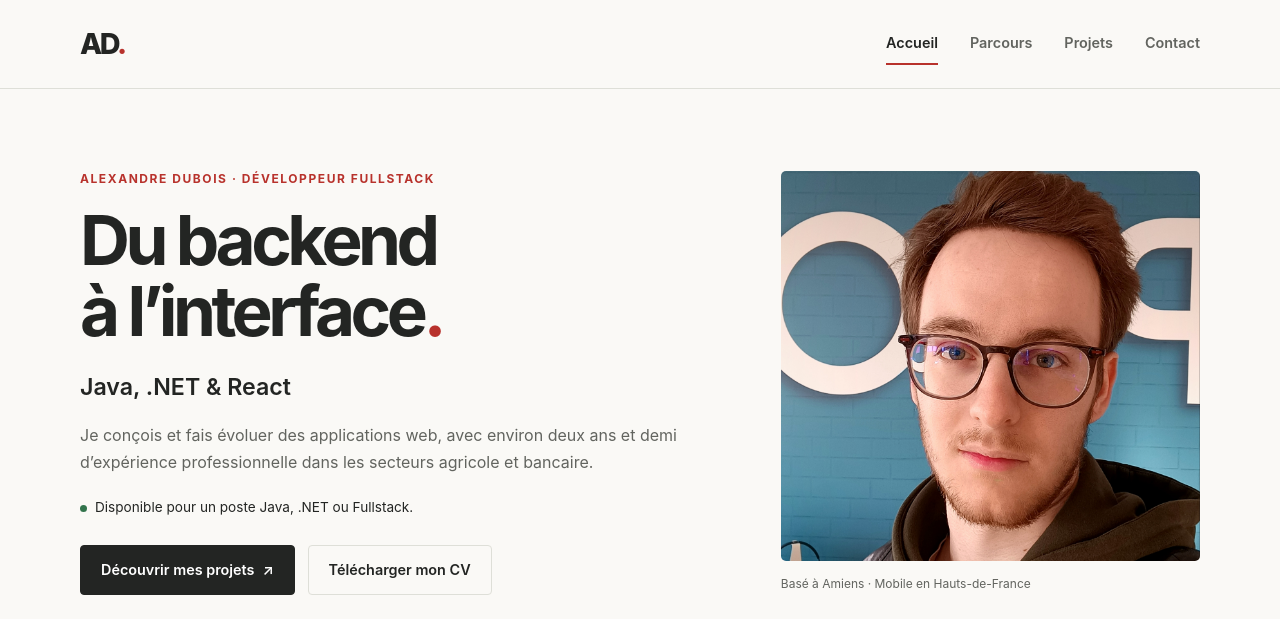
Test: keeps the message and allows a retry when EmailJS fails
Click the link "Contact" at {"x": 1172, "y": 43}, box [1145,34,1200,51]
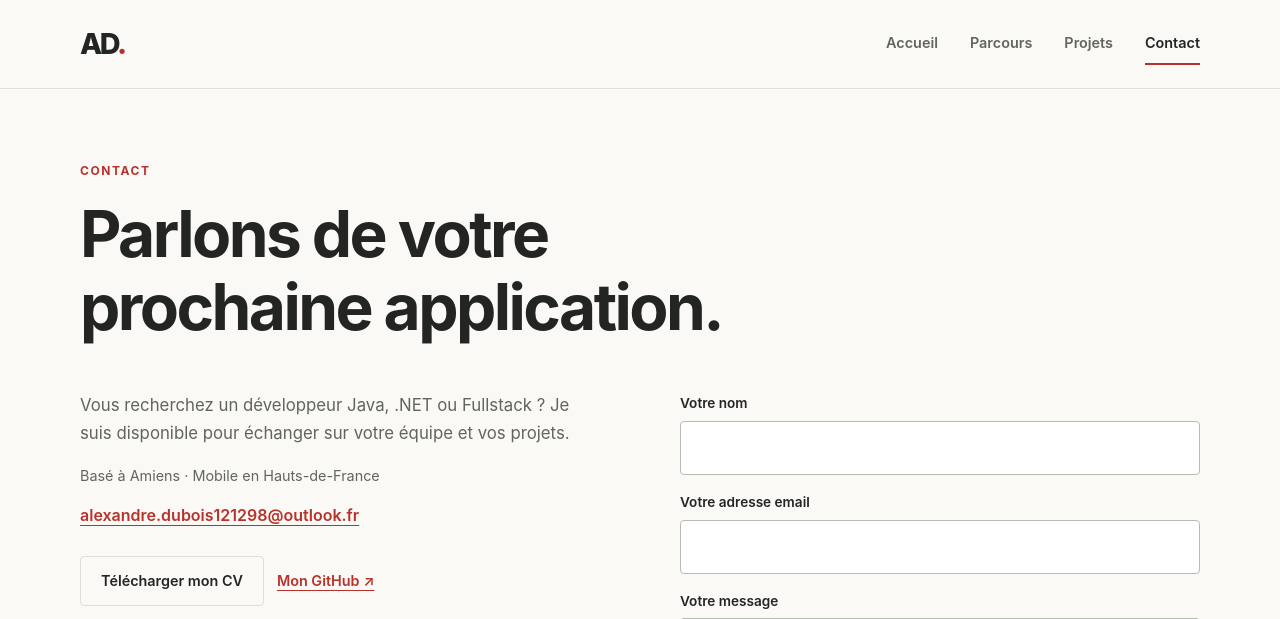
Now the heading "Parlons de votre" is shown, box [80,195,722,345]
Type "Visiteur" into the field labelled "Votre nom" at {"x": 940, "y": 448}, box [680,421,1200,475]
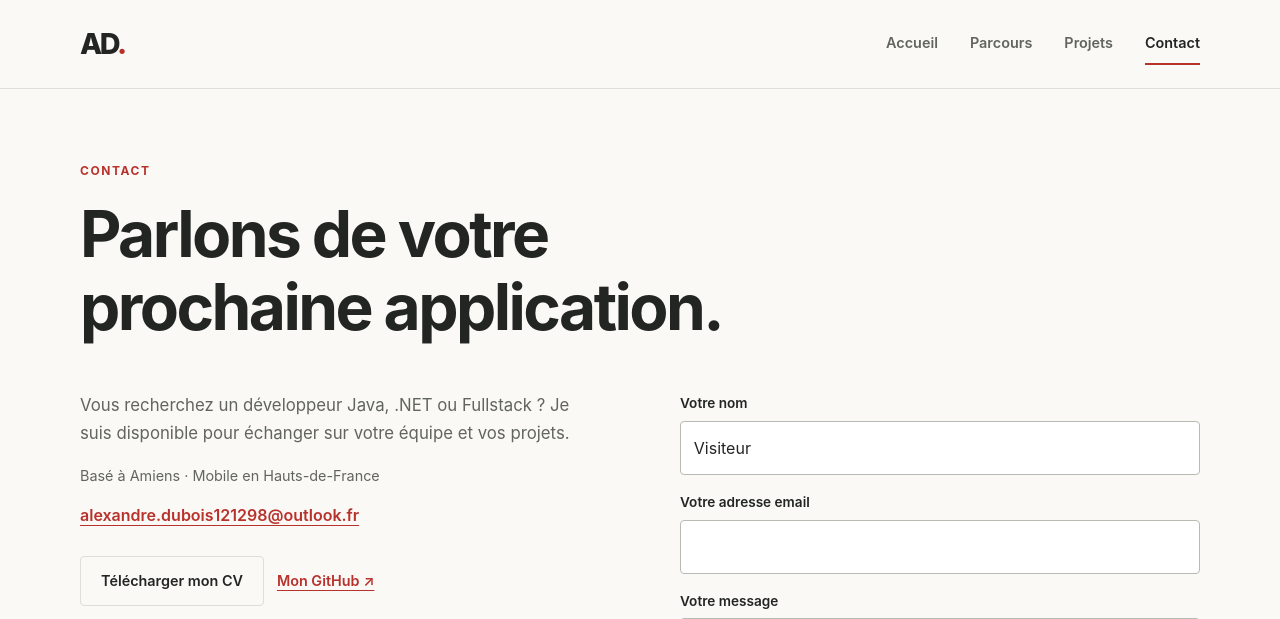
Type "visiteur@example.com" into the field labelled "Votre adresse email" at {"x": 940, "y": 547}, box [680,520,1200,574]
(page scrolled)
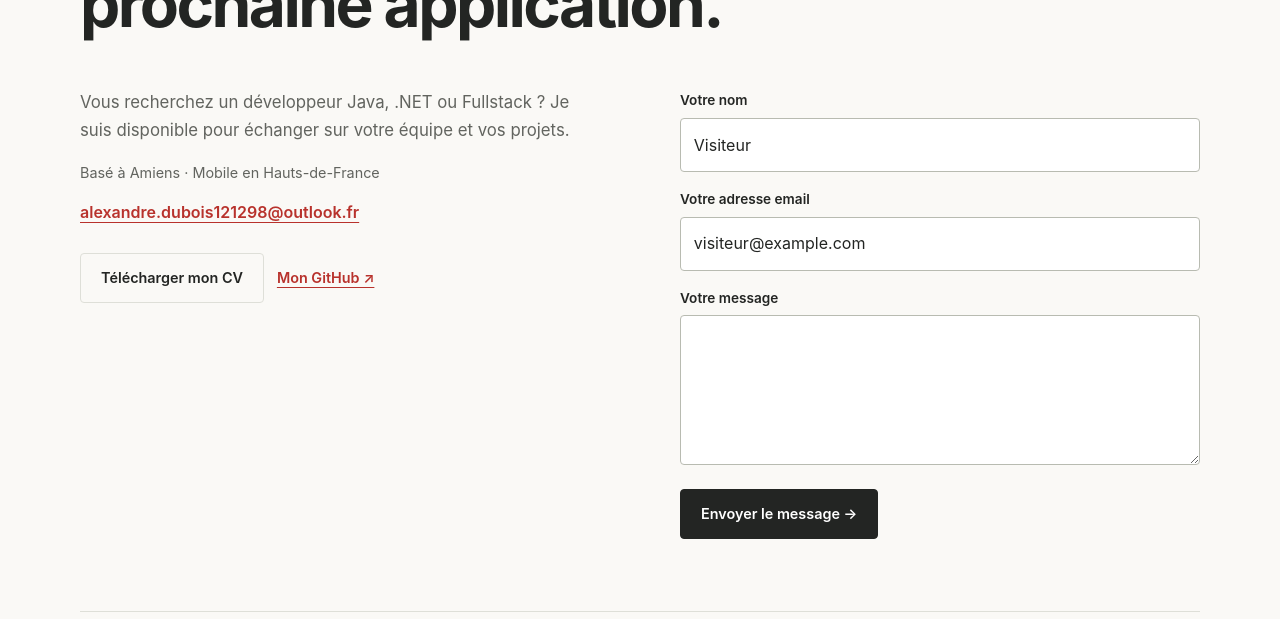
Type "Bonjour, échangeons sur une opportunité." into the text box labelled "Votre message" at {"x": 940, "y": 390}, box [680,315,1200,465]
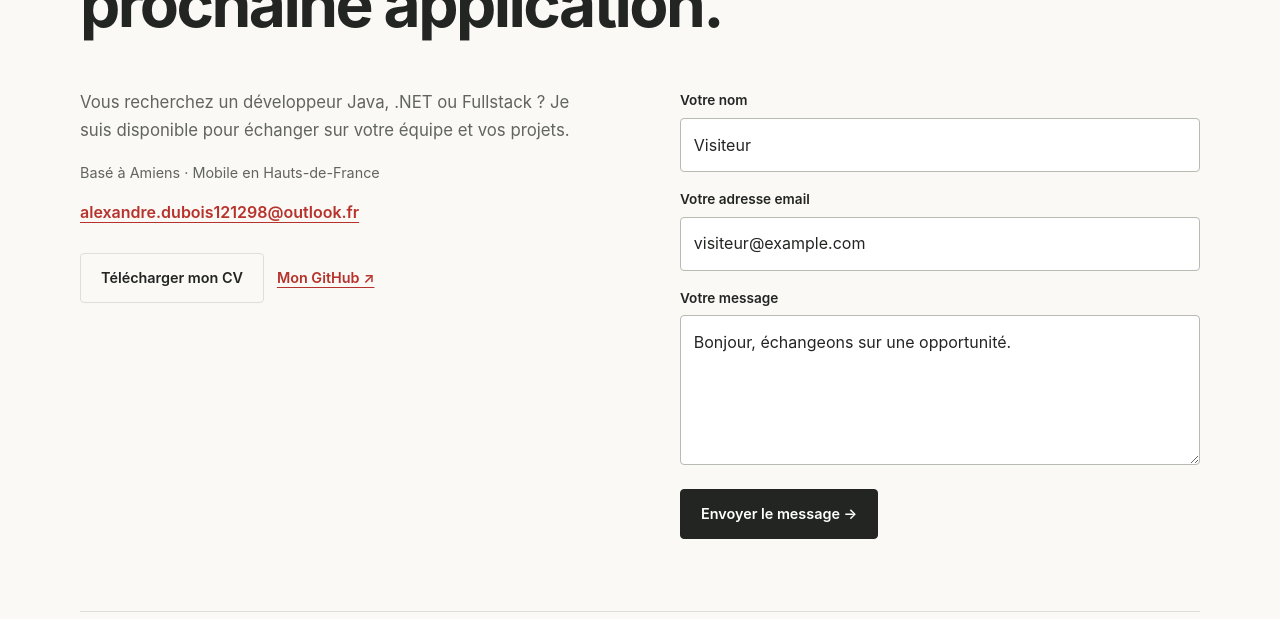
Click the button "Envoyer le message →" at {"x": 779, "y": 514}, box [680,489,878,539]
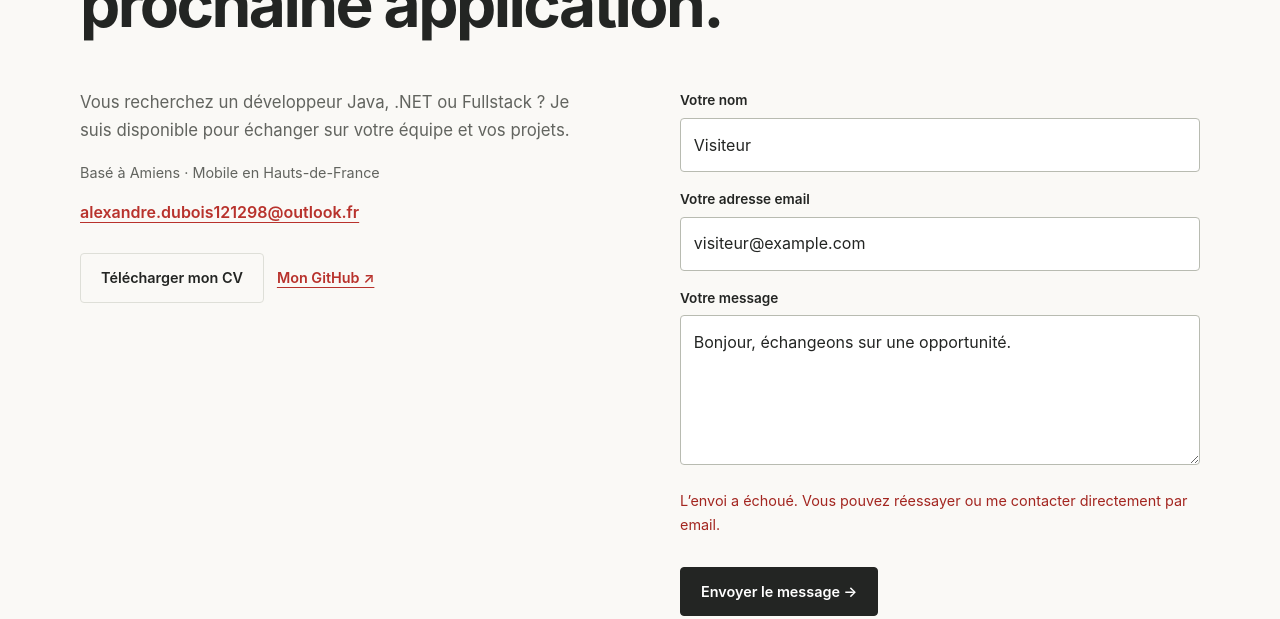
Now the message shows "L’envoi a échoué", box [680,492,1188,533]
Click the button "Envoyer le message →" at {"x": 779, "y": 592}, box [680,567,878,616]
(page scrolled)
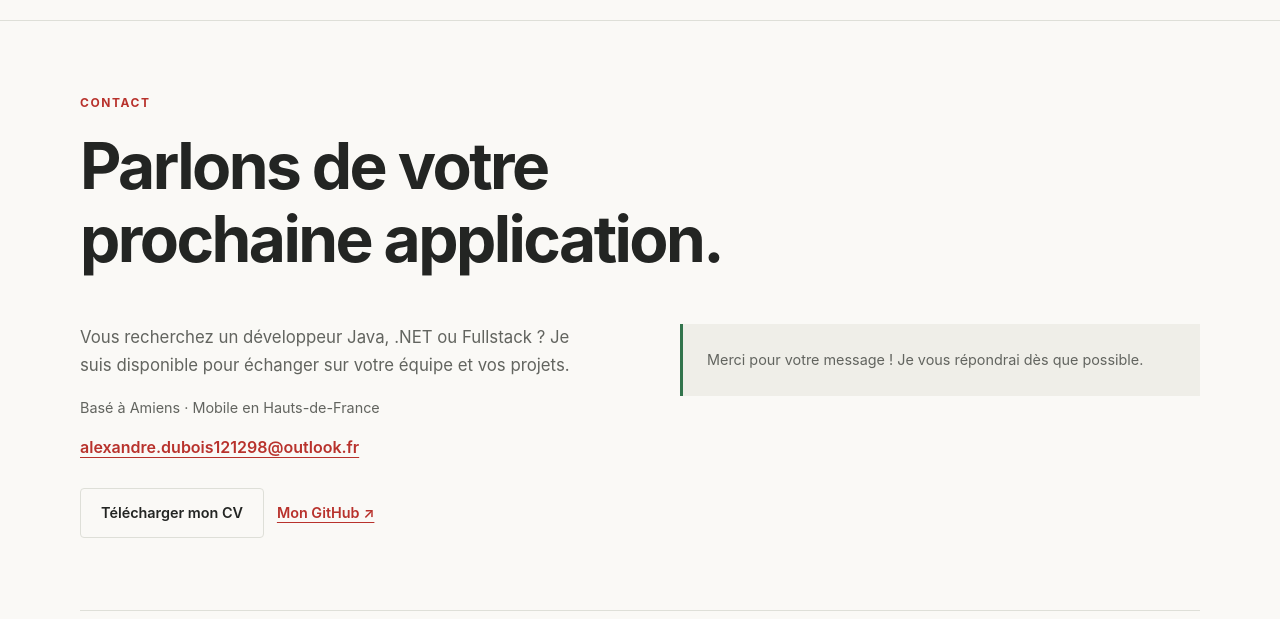
Now the message shows "Merci pour votre message", box [707,351,1143,368]
